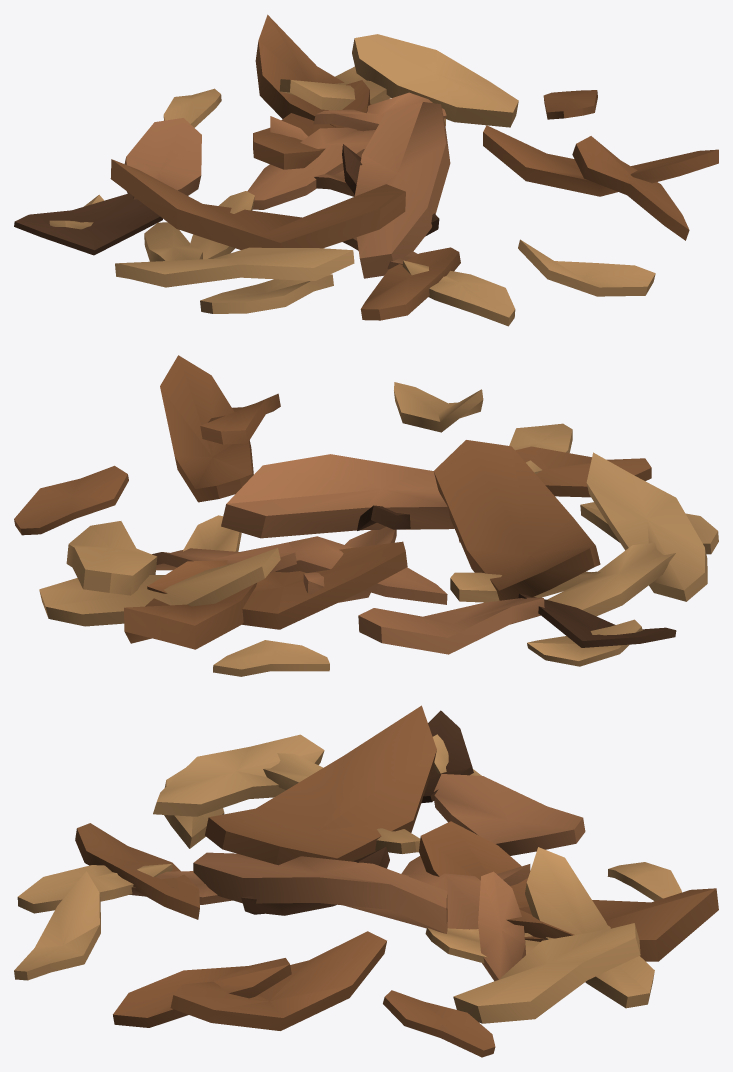
File: canopy_gc_bark_bits_a.glb
3 views of the same model, one above another, from view 1: azimuth 30°, elevation 25°; view 2: azimuth 150°, elevation 25°; view 3: azimuth 270°, elevation 25° (orthographic). The views are drawn at different scales.
Parts seen in each view (by area): view 1: canopy_gc_bark_bits_a; view 2: canopy_gc_bark_bits_a; view 3: canopy_gc_bark_bits_a.
Boxes of the visible parts, x1,y1,x2,y2 form: canopy_gc_bark_bits_a: [14, 14, 718, 326]; canopy_gc_bark_bits_a: [14, 355, 718, 676]; canopy_gc_bark_bits_a: [14, 705, 718, 1057].
Bounding box in the file's own units: 3.62 × 0.5007 × 3.47.
